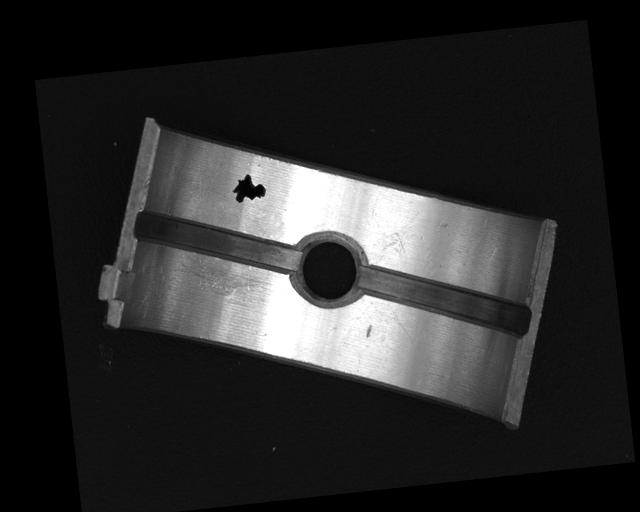blot: (229, 171, 267, 204)
bruise: (363, 322, 372, 339)
gap: (357, 249, 530, 351), (132, 194, 303, 286)
hole: (291, 228, 366, 306)
scratch: (169, 244, 274, 305)
